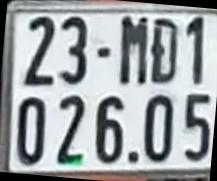-: (97, 46, 110, 59)
.: (127, 148, 140, 167)
0: (16, 94, 48, 167), (142, 94, 173, 161)
1: (186, 15, 206, 86)
2: (22, 13, 57, 87), (59, 93, 87, 169)
3: (60, 15, 92, 88)
5: (183, 91, 212, 163)
6: (93, 94, 125, 163)
D: (150, 16, 177, 85)
M: (118, 13, 148, 84)
